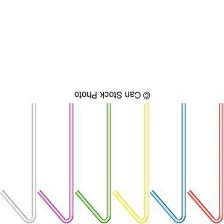drinking_straw: (110, 100, 155, 223), (0, 100, 41, 223), (186, 100, 224, 223)
